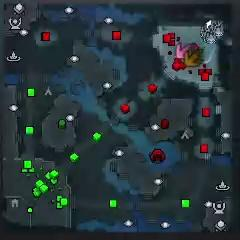x1: (175, 41, 191, 59)
x5: (184, 49, 201, 68)
